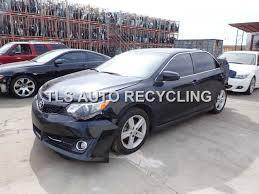bonnet-dent: (39, 80, 136, 100)
front-bumper-dent: (32, 112, 117, 160)
